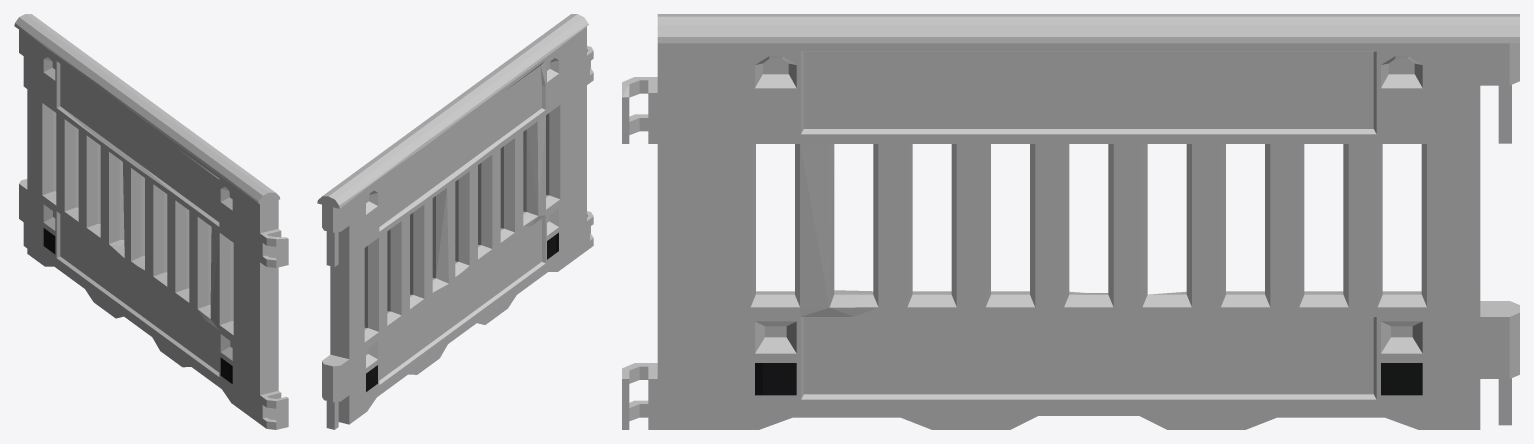
File: Construction_Block05.fbx
The picture shows the model from 3 angles, left to right: view 1: azimuth 30°, elevation 25°; view 2: azimuth 150°, elevation 25°; view 3: azimuth 270°, elevation 25°; orthographic projection. The views are drawn at different scales.
Parts seen in each view (by area): view 1: SM_City_Construction_Block_03a.mo; view 2: SM_City_Construction_Block_03a.mo; view 3: SM_City_Construction_Block_03a.mo.
Part boxes in pixels (left/top/right/bottom): SM_City_Construction_Block_03a.mo: left=14, top=14, right=288, bottom=429; SM_City_Construction_Block_03a.mo: left=317, top=14, right=593, bottom=429; SM_City_Construction_Block_03a.mo: left=622, top=14, right=1519, bottom=429.
Bounding box in the file's own units: 9.01 × 89.2 × 179.
